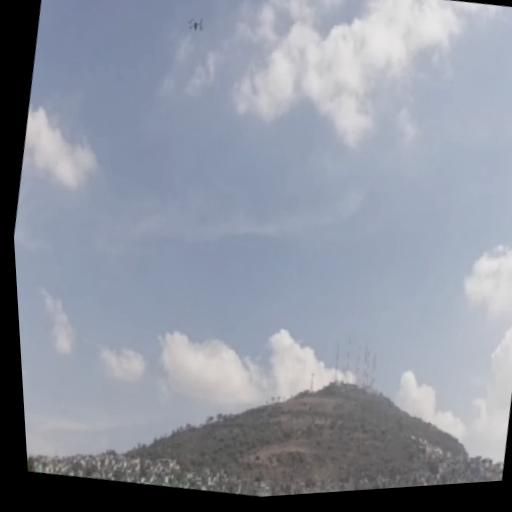drones: (182, 11, 209, 40)
